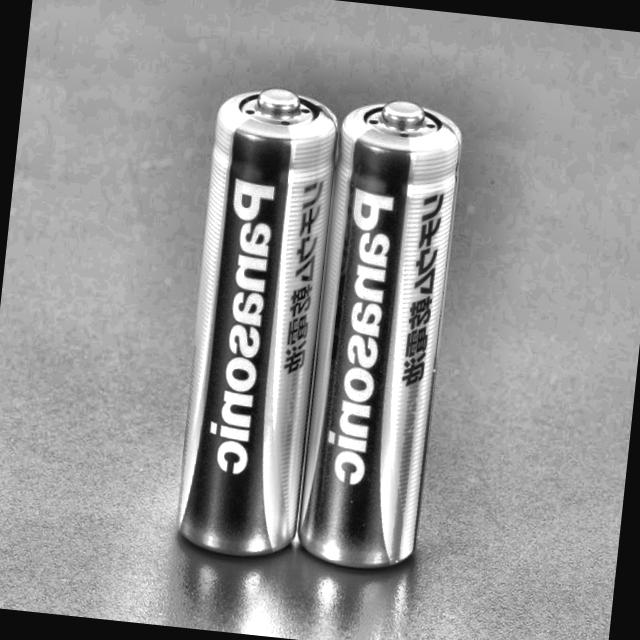drycell: (290, 93, 470, 592), (164, 81, 343, 578)
